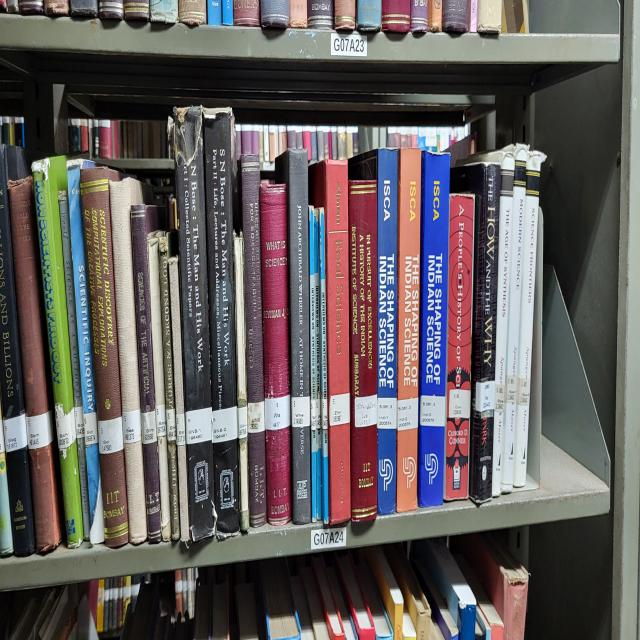Book: (32, 157, 84, 547), (9, 176, 61, 552), (80, 168, 129, 547), (174, 106, 215, 541), (450, 162, 500, 503), (204, 111, 240, 538), (309, 160, 351, 525), (0, 149, 35, 557), (109, 179, 148, 544), (68, 160, 105, 544), (275, 149, 311, 525), (418, 152, 450, 506), (59, 192, 90, 538), (260, 184, 291, 528), (130, 203, 161, 544), (514, 152, 545, 487), (349, 168, 378, 522), (241, 154, 268, 528), (445, 192, 475, 501), (396, 149, 421, 511), (376, 149, 399, 514), (501, 152, 525, 492), (492, 152, 515, 498), (148, 233, 171, 541), (159, 233, 180, 541), (169, 257, 190, 544), (234, 233, 250, 533), (309, 206, 321, 522), (318, 208, 329, 525)
Label: (55, 403, 76, 452), (26, 411, 52, 449), (98, 417, 124, 455), (212, 406, 238, 444), (185, 409, 212, 444), (4, 414, 28, 452), (265, 395, 290, 430), (420, 395, 445, 427), (355, 395, 378, 427), (329, 392, 350, 427), (398, 398, 419, 430), (122, 409, 141, 444), (378, 398, 398, 430), (448, 390, 470, 419), (291, 395, 310, 427), (475, 381, 495, 411), (248, 400, 265, 433), (141, 411, 156, 444), (84, 411, 98, 446), (505, 376, 518, 403), (156, 403, 166, 438), (176, 411, 186, 446), (518, 379, 530, 406), (74, 406, 84, 438), (166, 409, 176, 441), (238, 406, 248, 438), (494, 384, 505, 411), (310, 398, 319, 430), (321, 398, 328, 430)
